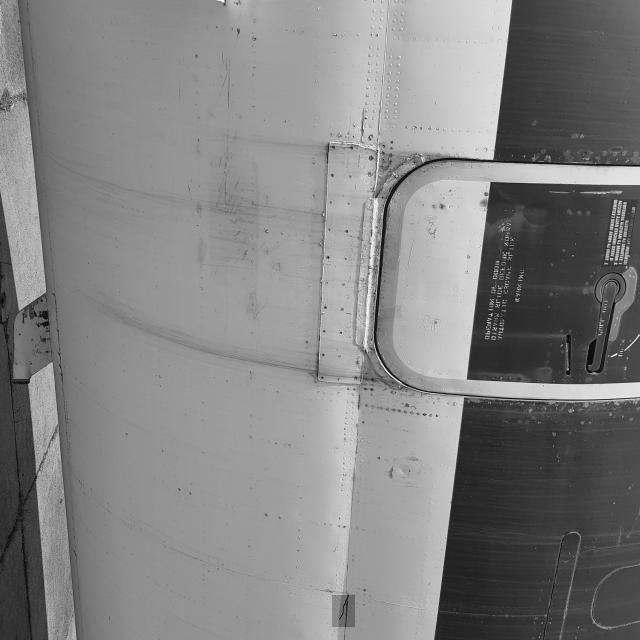crack: (333, 596, 356, 628)
